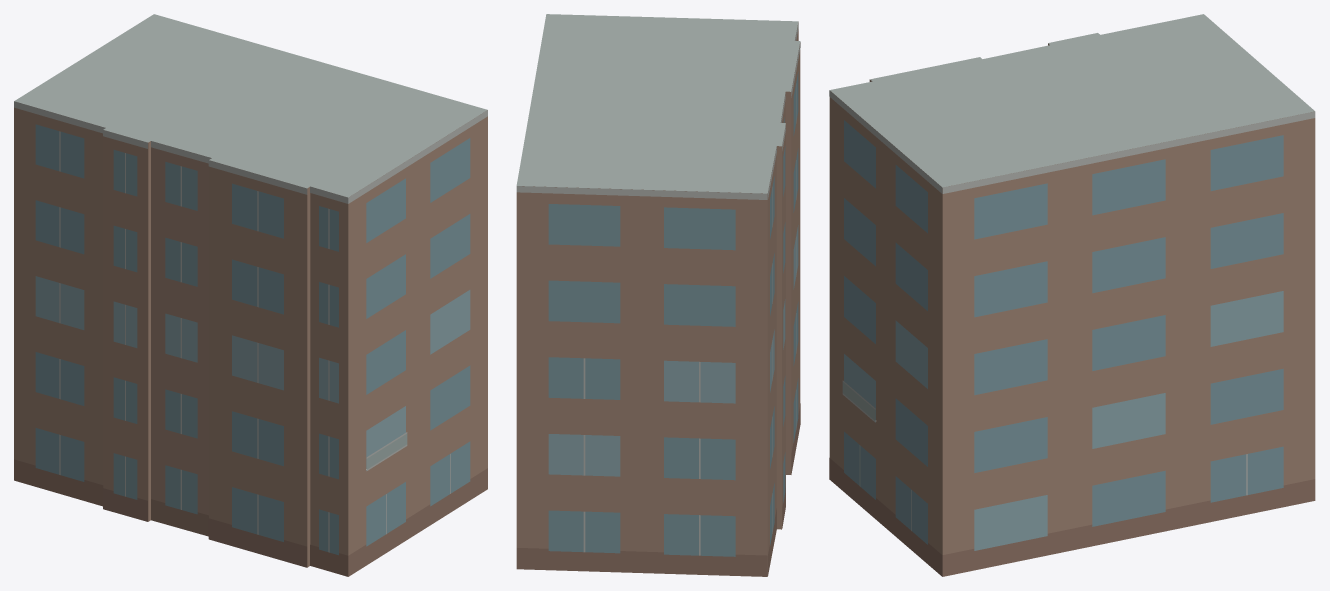
The model's file is survey-upis-32737521.glb.
3 views of the same model, side by side, from view 1: azimuth 30°, elevation 25°; view 2: azimuth 150°, elevation 25°; view 3: azimuth 270°, elevation 25° (orthographic). The views are drawn at different scales.
Visible parts, largest first — view 1: survey-upis-32737521.tmp; view 2: survey-upis-32737521.tmp; view 3: survey-upis-32737521.tmp.
Part boxes in pixels (<box>): survey-upis-32737521.tmp: <box>14,14,487,576</box>; survey-upis-32737521.tmp: <box>516,14,800,576</box>; survey-upis-32737521.tmp: <box>829,14,1315,576</box>.
Size of the model in its own units: 13.77 by 14.4 by 16.29.
